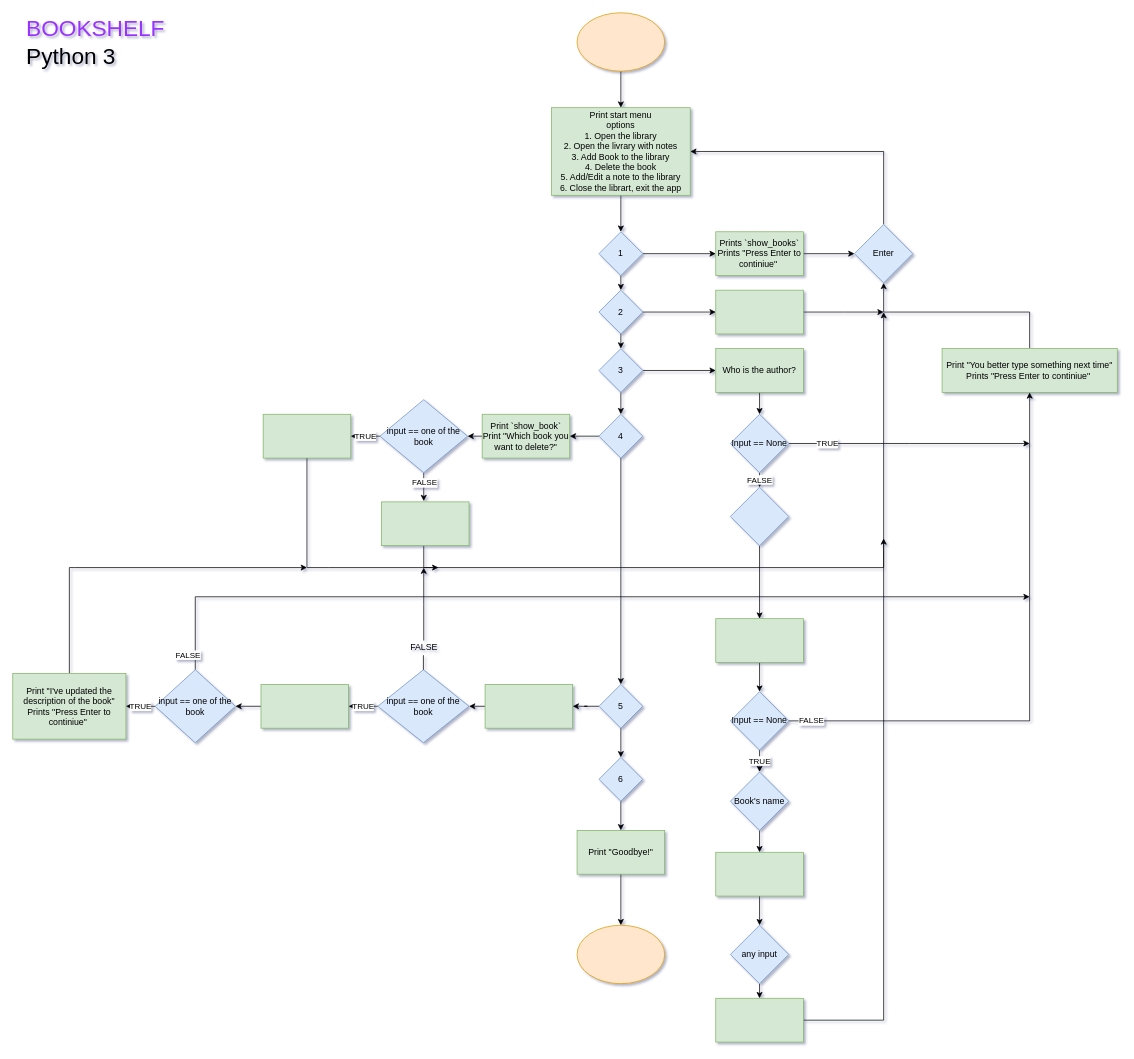
Image size: 1134x1059. Some labels were removed from this diagram. The box of each missing label's shape, as (x1, y1, x2, y2) in pixels:
"What is the new desciption for the book?": (260, 684, 349, 728)
Author's name: (730, 487, 789, 546)
EXIT: (576, 925, 665, 984)
print "Sorry, could not find the book" Prints "Press Enter to continiue": (381, 501, 469, 546)
Print "The book have been deleted" Prints "Press Enter to continiue": (262, 414, 351, 458)
Print `show_book` Print "You want to add or edit a note to wich booK?": (484, 684, 573, 728)
Prints `show_books_notes` Prints "Press Enter to continiue": (715, 289, 803, 334)
python3 bookshelf.py: (576, 12, 665, 71)
The book is added Press "Enter: to continiue: (715, 998, 803, 1042)
What was the book about?: (715, 852, 803, 896)
Which book of the author you want to add?: (715, 618, 803, 662)
